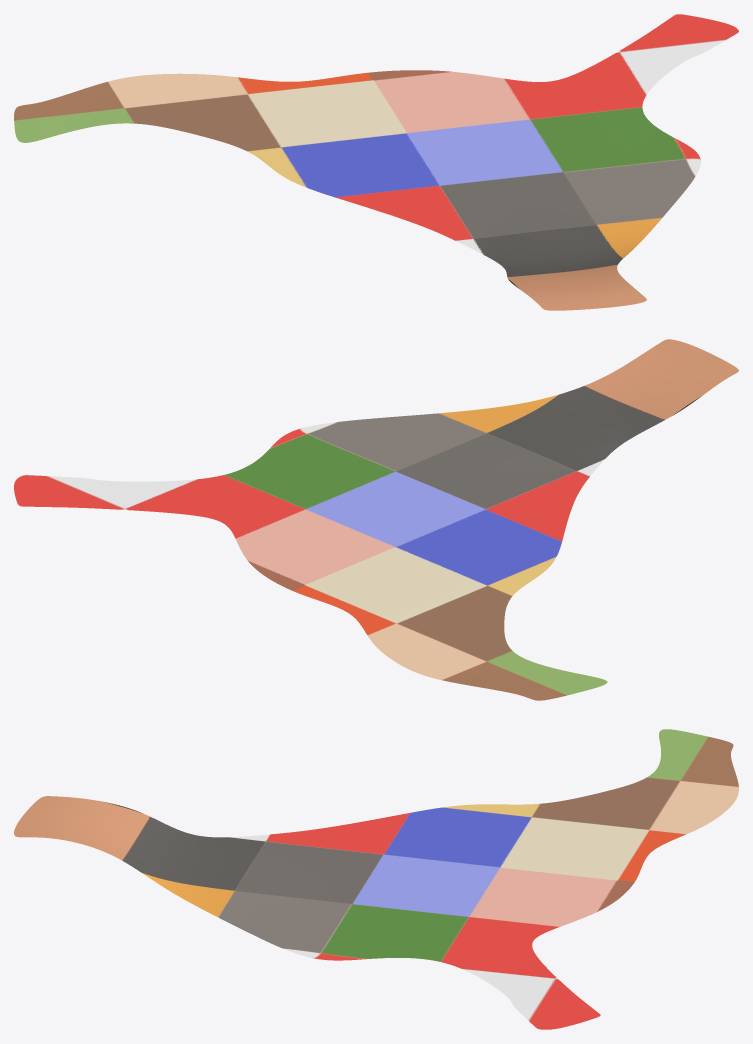
File: lvl2grassclearing.fbx
The picture shows the model from 3 angles, top to bottom: view 1: azimuth 30°, elevation 25°; view 2: azimuth 150°, elevation 25°; view 3: azimuth 270°, elevation 25°; orthographic projection. The views are drawn at different scales.
Visible parts, largest first — view 1: clearinggrass; view 2: clearinggrass; view 3: clearinggrass.
Boxes of the visible parts, bbox=[...] form: clearinggrass: bbox=[14, 14, 738, 310]; clearinggrass: bbox=[14, 339, 738, 700]; clearinggrass: bbox=[14, 729, 738, 1029].
Bounding box in the file's own units: 41.68 × 1.61 × 42.43.
